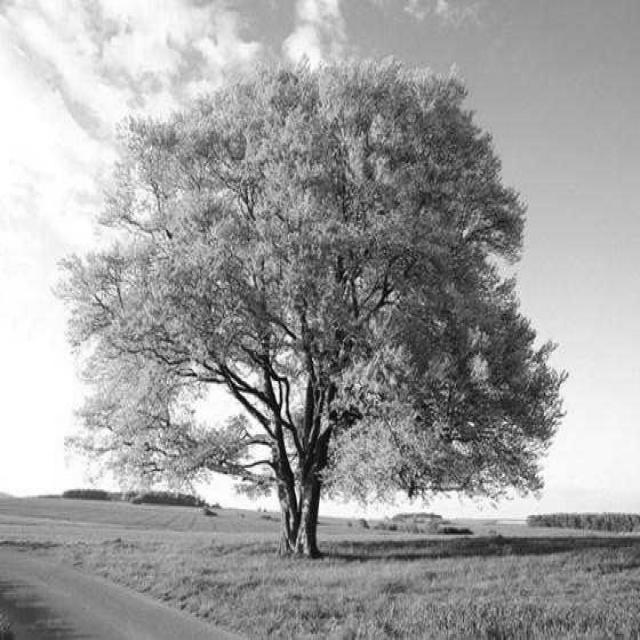Tree: (60, 60, 565, 556)
